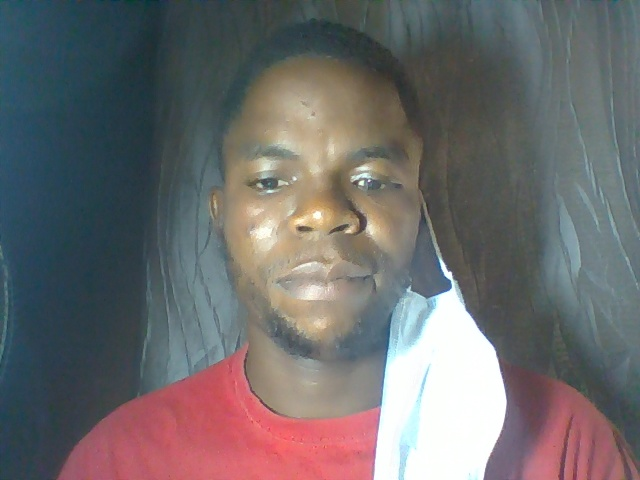MaskOff: (200, 18, 518, 423)
